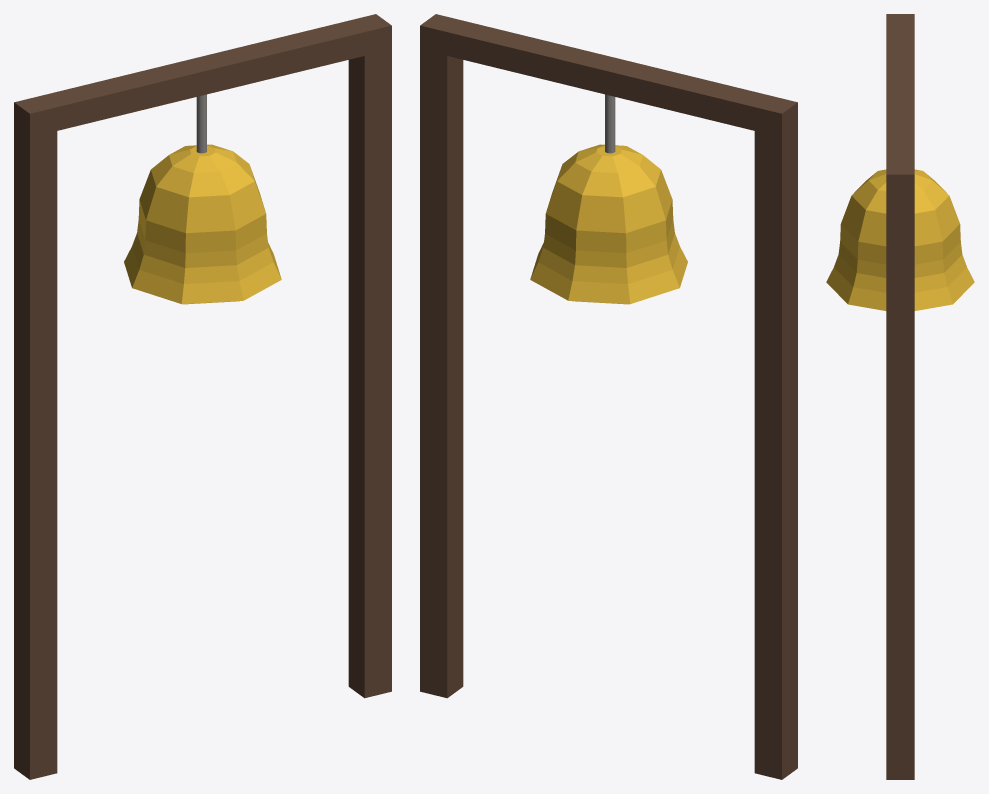
The model's file is bell.fbx.
The picture shows the model from 3 angles, left to right: view 1: azimuth 30°, elevation 25°; view 2: azimuth 150°, elevation 25°; view 3: azimuth 270°, elevation 25°; orthographic projection. The views are drawn at different scales.
Visible parts, largest first — view 1: b, Cylinder; view 2: b, Cylinder; view 3: b, Cylinder.
Boxes of the visible parts, left/top/right/bottom form: b: left=14, top=14, right=391, bottom=779; Cylinder: left=124, top=144, right=281, bottom=304; b: left=420, top=14, right=797, bottom=779; Cylinder: left=530, top=144, right=687, bottom=304; b: left=886, top=14, right=914, bottom=779; Cylinder: left=826, top=169, right=974, bottom=310.
Size of the model in its own units: 796 by 1400 by 311.
